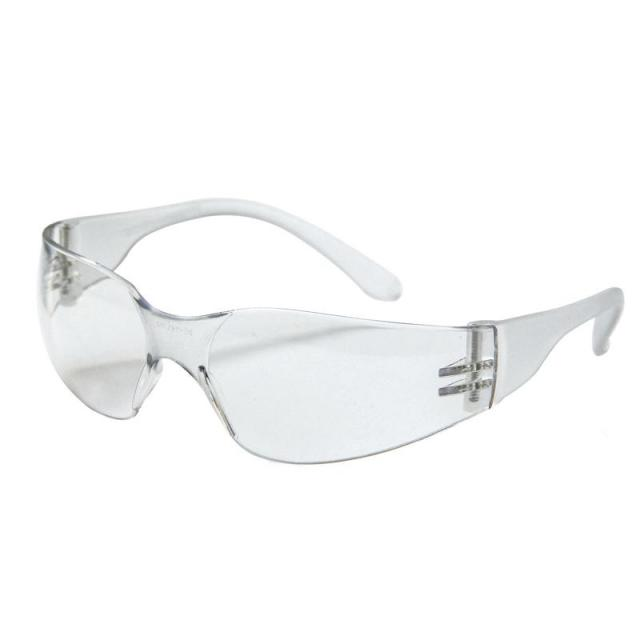Protective Glasses: (33, 187, 630, 498)
